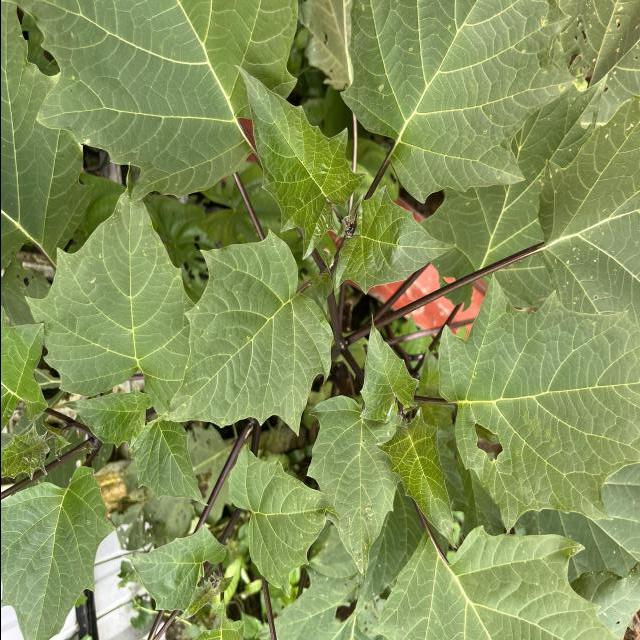Datura metal linn: (21, 158, 196, 416), (140, 227, 336, 440), (228, 62, 368, 262), (224, 440, 341, 601), (304, 393, 398, 592), (331, 182, 459, 296), (371, 406, 458, 552), (355, 311, 420, 425), (127, 422, 209, 508), (56, 385, 152, 452)
